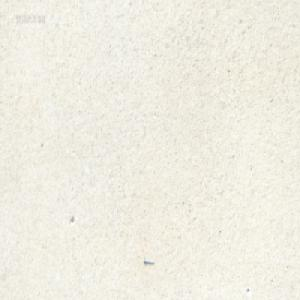Nail: (143, 258, 154, 266)
